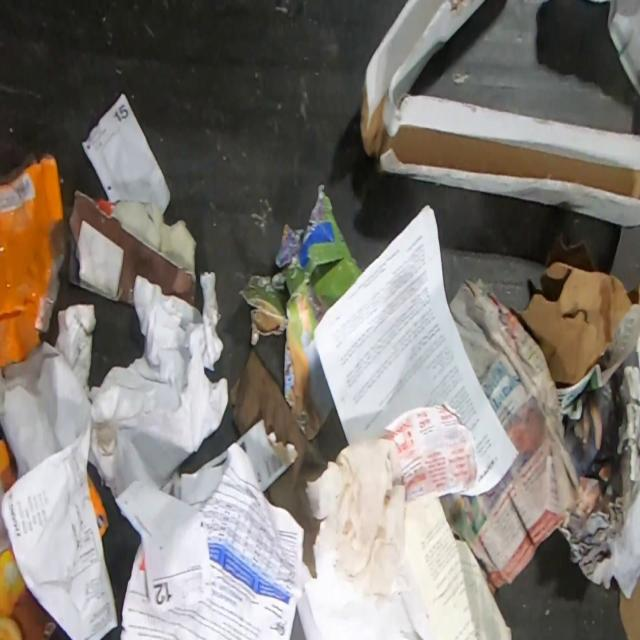cardboard: (360, 0, 640, 229), (238, 183, 362, 439), (510, 233, 640, 383), (236, 418, 298, 492), (618, 572, 640, 640), (194, 449, 226, 474)
soft_plastic: (0, 153, 65, 366)
